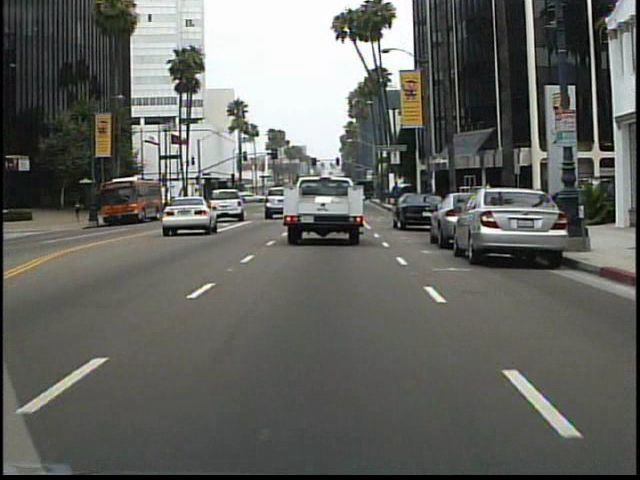person: (480, 179, 497, 221), (72, 195, 88, 229)
